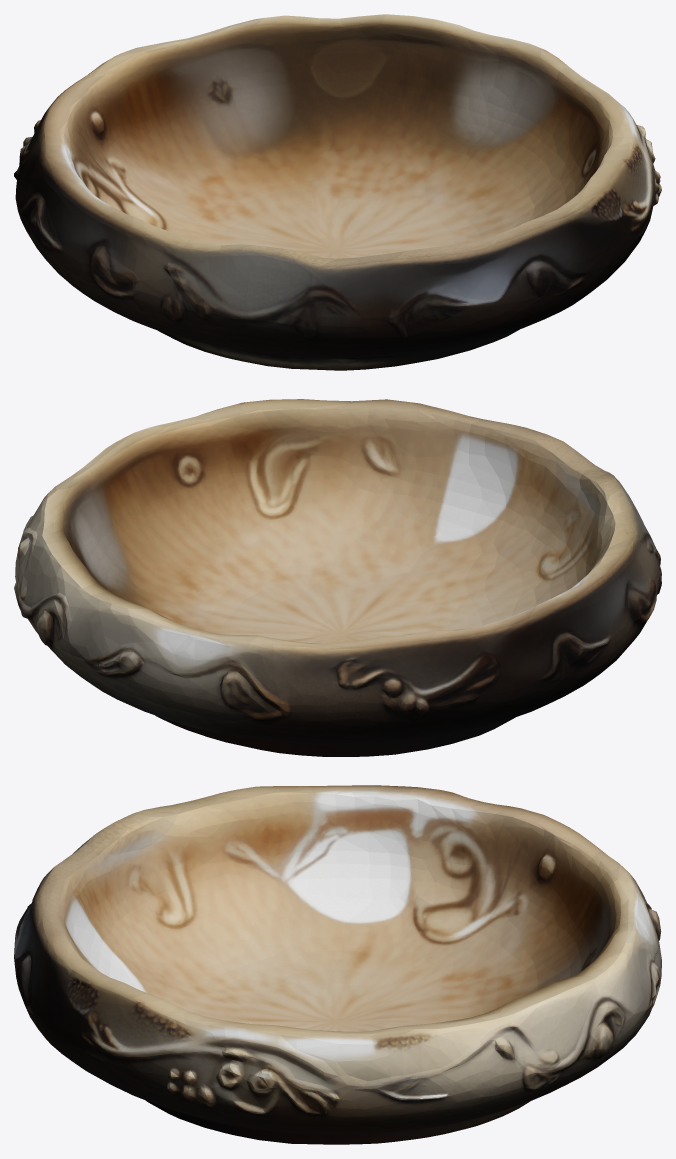
Rendered from ceramic-spoon-rest-3d.jpeg.glb.
The picture shows the model from 3 angles, top to bottom: view 1: azimuth 30°, elevation 25°; view 2: azimuth 150°, elevation 25°; view 3: azimuth 270°, elevation 25°; orthographic projection. The views are drawn at different scales.
Visible parts, largest first — view 1: world; view 2: world; view 3: world.
Boxes of the visible parts, x1,y1,x2,y2 form: world: (14, 14, 661, 370); world: (14, 399, 661, 756); world: (14, 785, 661, 1144).
Bounding box in the file's own units: 0.9945 × 0.2599 × 0.9878.
1 material, 1 textured.
